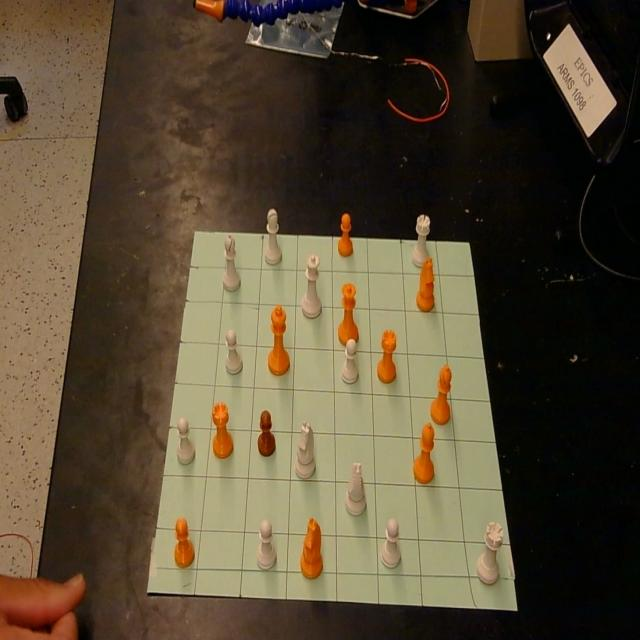orange_bishop: (412, 422, 436, 484), (430, 364, 452, 426)
orange_king: (268, 304, 290, 376)
orange_knight: (300, 516, 324, 578), (417, 256, 435, 312)
orange_pawn: (174, 517, 194, 568), (258, 410, 275, 457), (338, 212, 353, 256)
orange_queen: (338, 282, 359, 346)
orange_rook: (212, 401, 235, 458), (377, 329, 397, 384)
white_bishop: (222, 233, 240, 292), (265, 208, 282, 264)
white_knight: (295, 421, 315, 478), (346, 462, 366, 516)
white_pawn: (380, 518, 401, 568), (256, 518, 276, 570), (177, 416, 196, 466), (341, 336, 358, 384), (225, 328, 242, 374)
white_queen: (302, 254, 322, 318)
white_rook: (476, 520, 503, 584), (412, 213, 431, 266)
